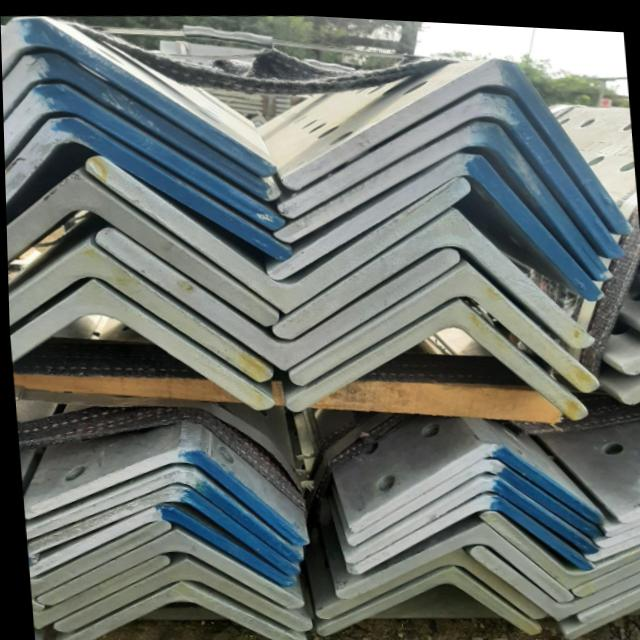metal-angles: (280, 52, 634, 227), (85, 155, 470, 311), (278, 86, 625, 252), (272, 115, 613, 275), (94, 227, 458, 368), (265, 148, 602, 294), (271, 204, 594, 342), (1, 16, 276, 175), (5, 169, 278, 323), (287, 256, 600, 387), (3, 84, 286, 228), (4, 117, 292, 258), (2, 52, 280, 198), (7, 241, 273, 380), (282, 294, 585, 415), (8, 278, 273, 408), (22, 444, 306, 542), (23, 468, 298, 558), (24, 485, 298, 572), (344, 438, 603, 529), (342, 471, 597, 560), (343, 454, 600, 542), (33, 526, 301, 606), (26, 505, 292, 583), (346, 489, 593, 572), (332, 516, 572, 598), (49, 557, 309, 632), (311, 542, 545, 616), (313, 561, 543, 634), (60, 579, 304, 640), (477, 506, 640, 585), (467, 540, 640, 614)
